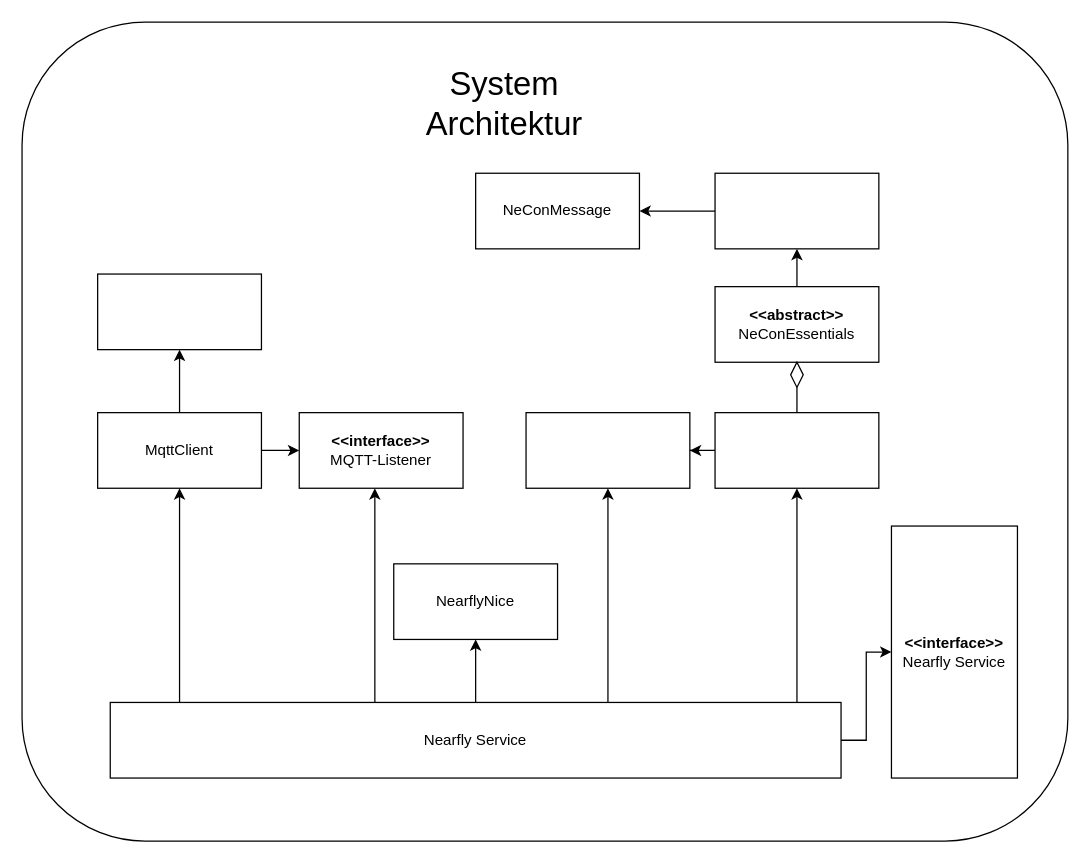
Some shapes in this 1090 by 863 pixel diagram are drawn without their labels. Here are the shapes that lost their labels. From the top down, the box of each, then its label:
(714, 172, 879, 249): <<interface>> PayloadReceiver
(96, 273, 261, 350): MqttMessaging
(525, 411, 690, 488): <<interface>> NeConListener
(714, 411, 879, 488): NeConClient
